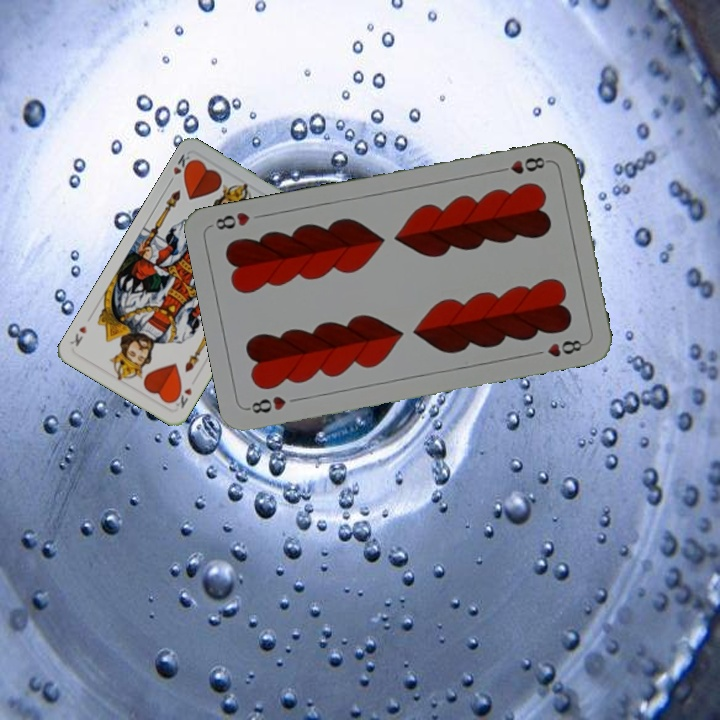H8: (493, 153, 552, 177), (244, 392, 289, 416)
HK: (164, 150, 196, 187), (169, 383, 194, 411)
